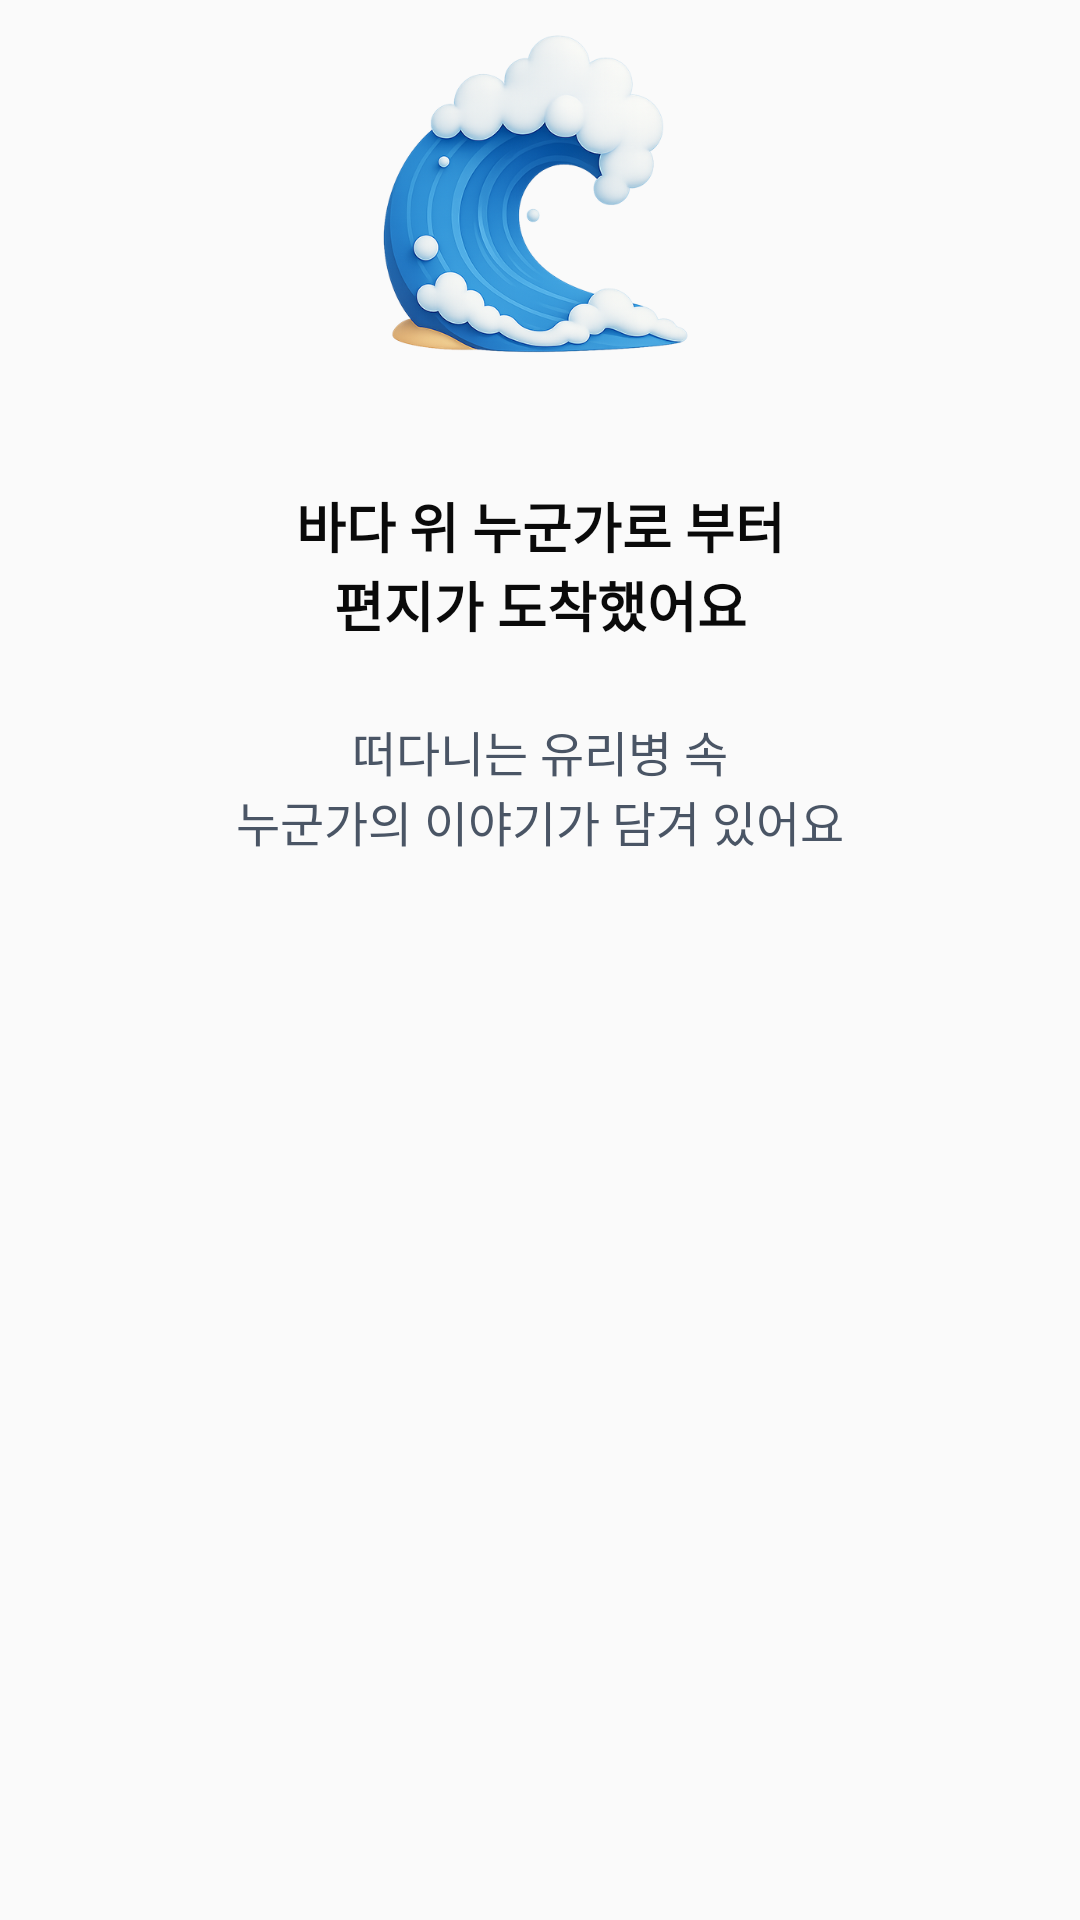

Locate icon controls on the screen. Image size 1080x1920, boxes as (x1, y1, x2, y2).
wave: (383, 36, 687, 352)
